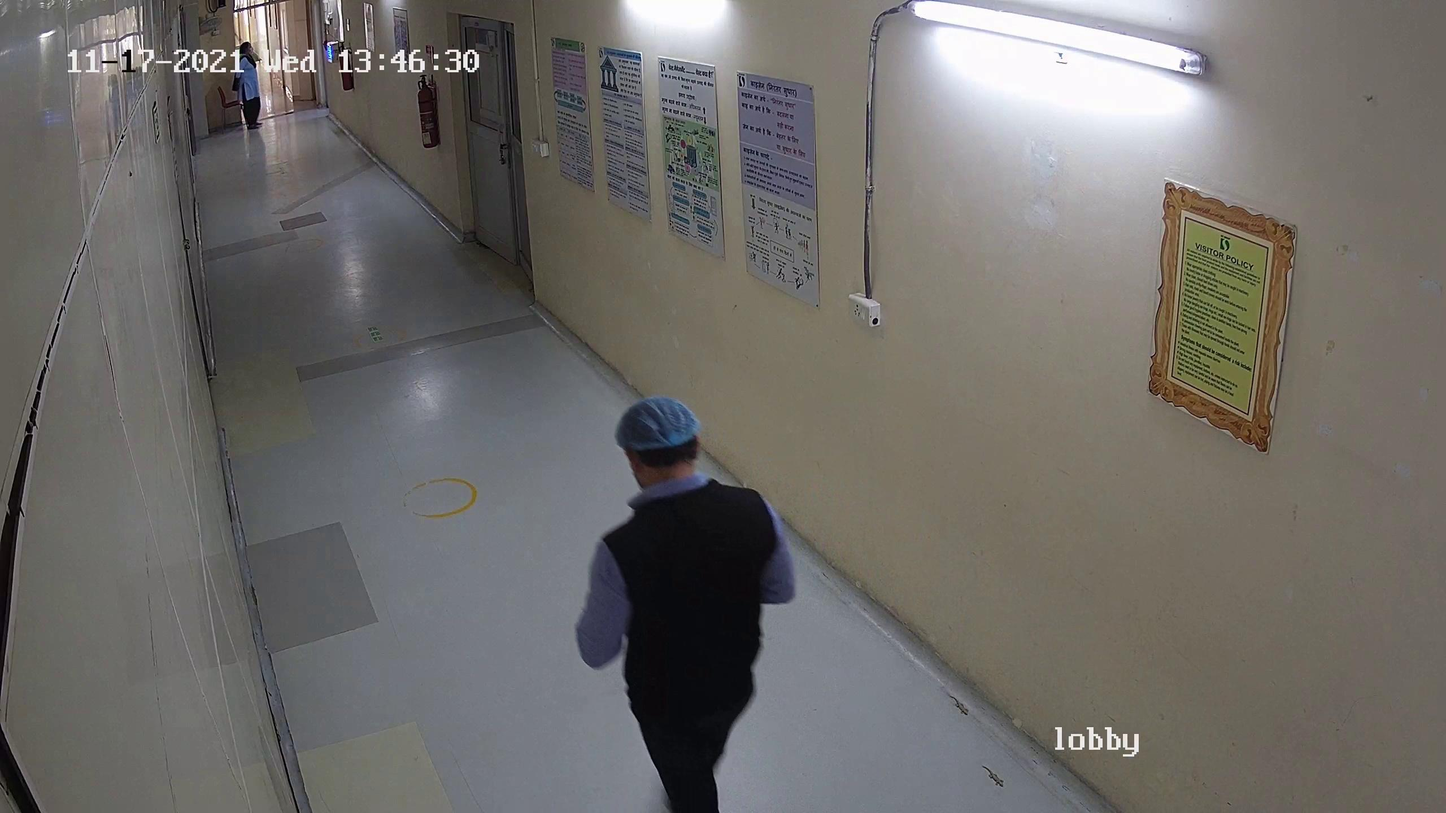lizard: (940, 682, 977, 723), (976, 757, 1006, 790)
